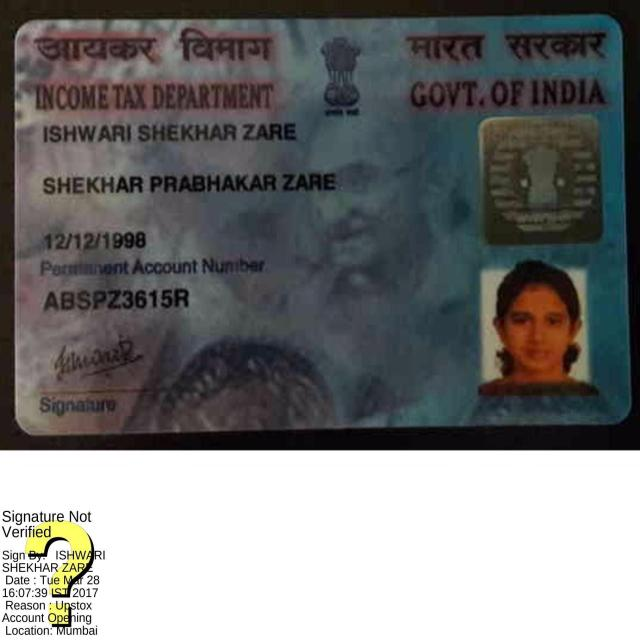pan_card: (20, 18, 626, 430)
